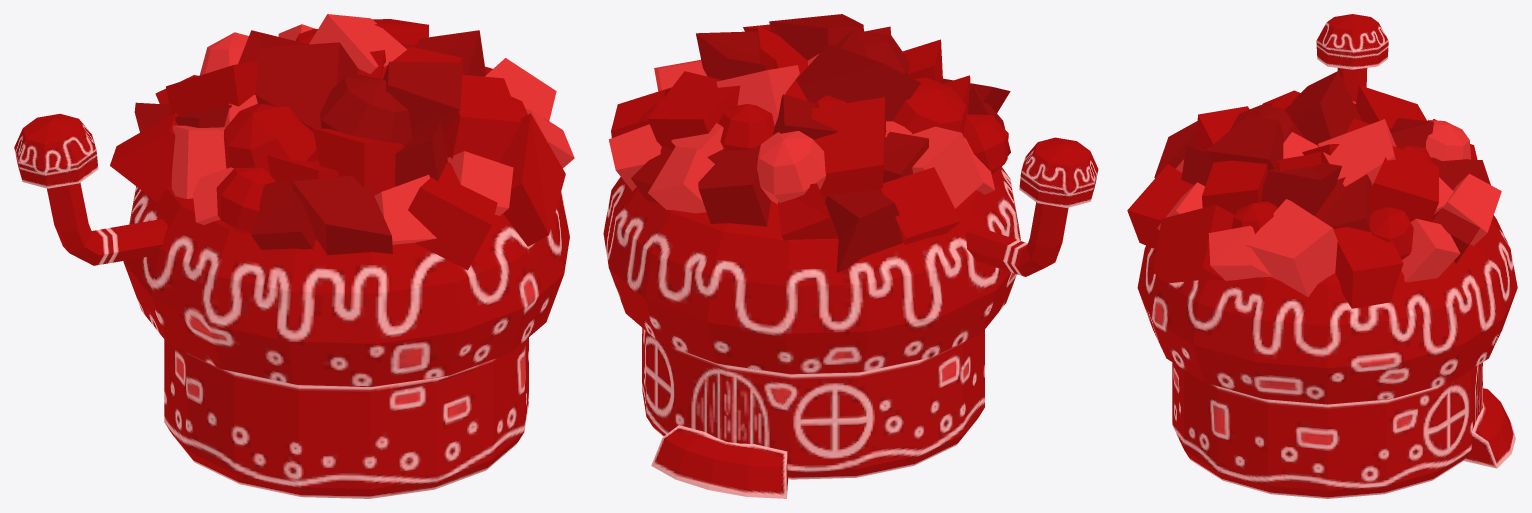
The model's file is FruitCakeBuilding.glb.
3 renders of one model, left to right at view 1: azimuth 30°, elevation 25°; view 2: azimuth 150°, elevation 25°; view 3: azimuth 270°, elevation 25°, orthographic. The views are drawn at different scales.
Parts seen in each view (by area): view 1: FruitCakeBuilding; view 2: FruitCakeBuilding; view 3: FruitCakeBuilding.
Boxes of the visible parts, x1,y1,x2,y2 form: FruitCakeBuilding: (14,14,574,498); FruitCakeBuilding: (603,14,1098,498); FruitCakeBuilding: (1127,14,1517,498).
Bounding box in the file's own units: 0.3077 × 0.229 × 0.2425.
1 material, 1 textured.
